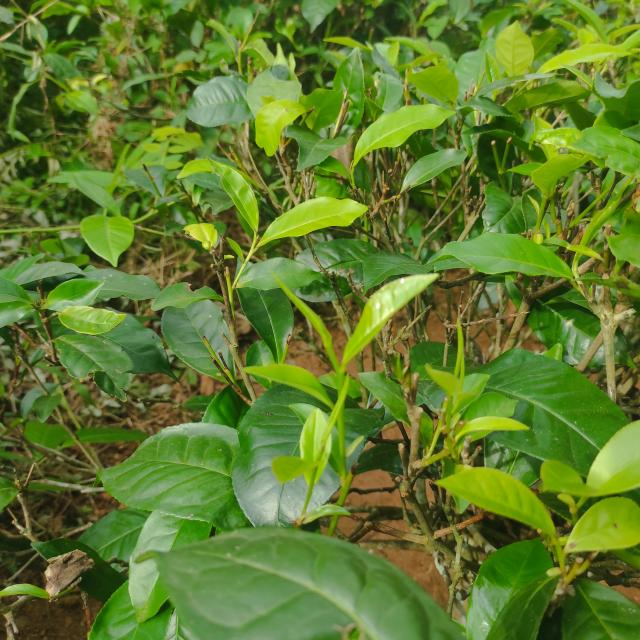unopened_leaf: (260, 263, 334, 364), (306, 369, 356, 469), (442, 309, 470, 397), (479, 51, 498, 85)
